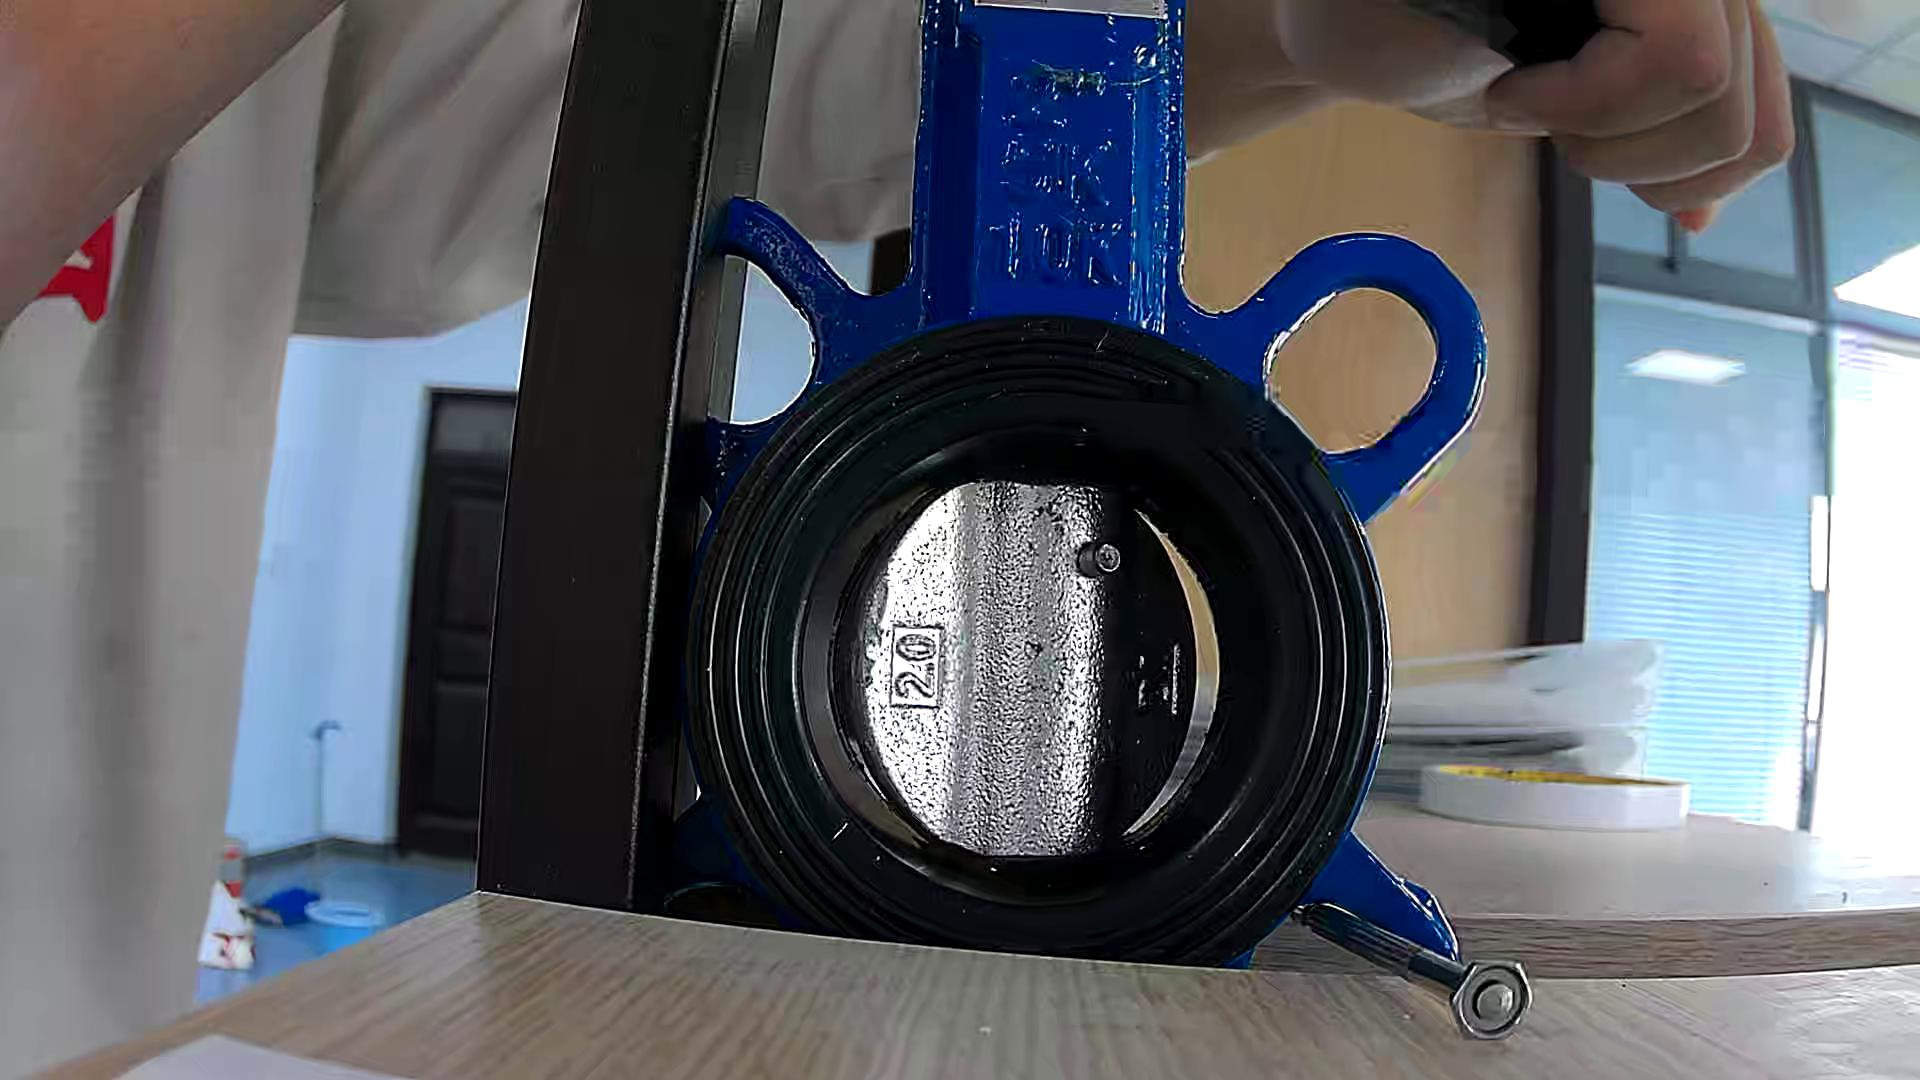valve: (855, 480, 1196, 858)
